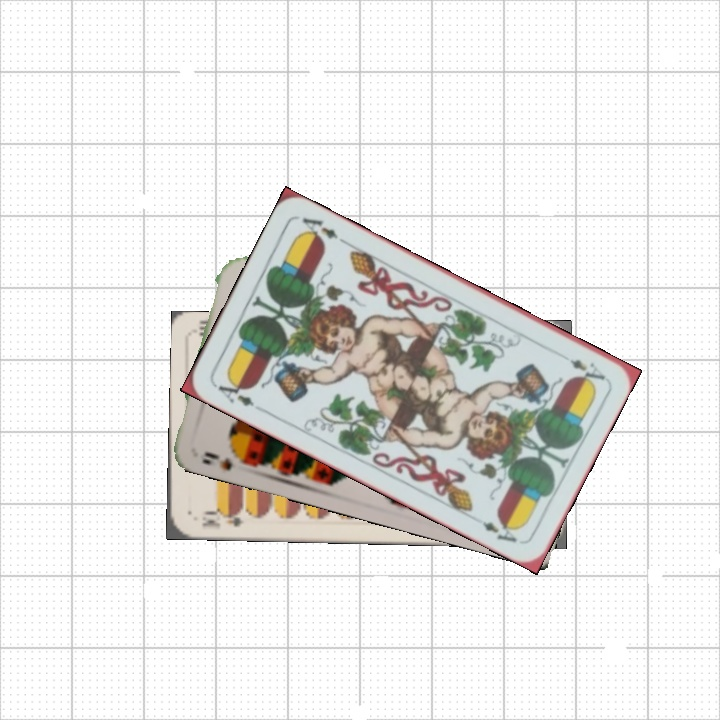E10: (198, 505, 250, 532)
EA: (214, 374, 257, 409), (566, 355, 609, 384)
S9: (198, 447, 250, 473)
